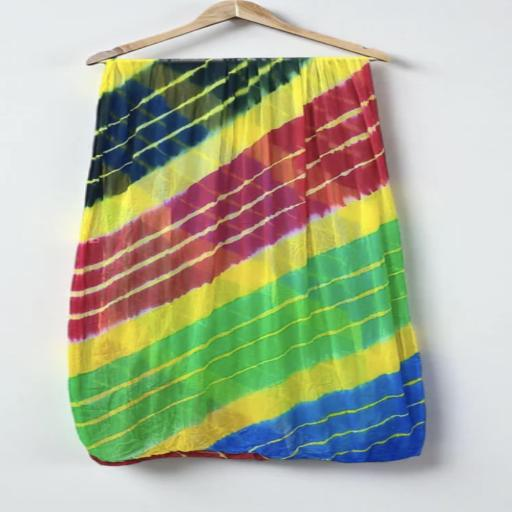Dupatta: (67, 43, 444, 470)
